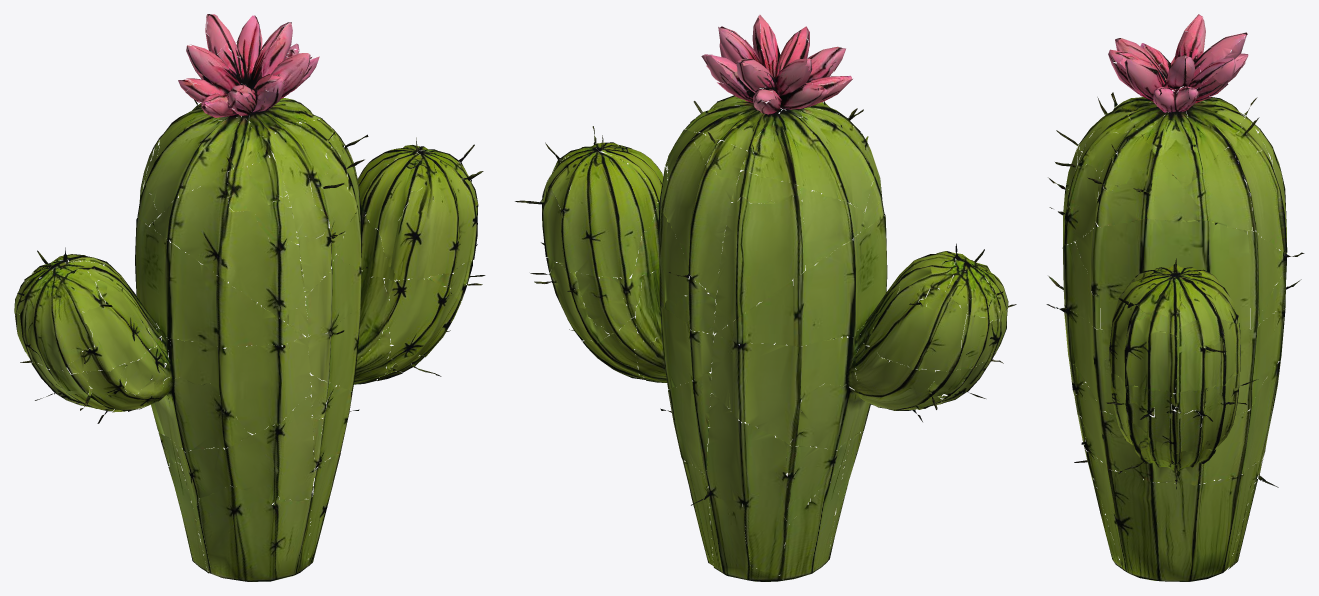
File: cactus_flor.glb
3 renders of one model, left to right at view 1: azimuth 30°, elevation 25°; view 2: azimuth 150°, elevation 25°; view 3: azimuth 270°, elevation 25°, orthographic.
Parts seen in each view (by area): view 1: tripo_node_fa2e3d2e-7bfb-4ed7-a6e1-2bb6c0caad3a; view 2: tripo_node_fa2e3d2e-7bfb-4ed7-a6e1-2bb6c0caad3a; view 3: tripo_node_fa2e3d2e-7bfb-4ed7-a6e1-2bb6c0caad3a.
Part boxes in pixels (left/top/right/bottom): tripo_node_fa2e3d2e-7bfb-4ed7-a6e1-2bb6c0caad3a: left=14, top=14, right=485, bottom=581; tripo_node_fa2e3d2e-7bfb-4ed7-a6e1-2bb6c0caad3a: left=515, top=15, right=1016, bottom=581; tripo_node_fa2e3d2e-7bfb-4ed7-a6e1-2bb6c0caad3a: left=1046, top=14, right=1304, bottom=581.
Bounding box in the file's own units: 0.9283 × 1 × 0.45.
1 material, 1 textured.
